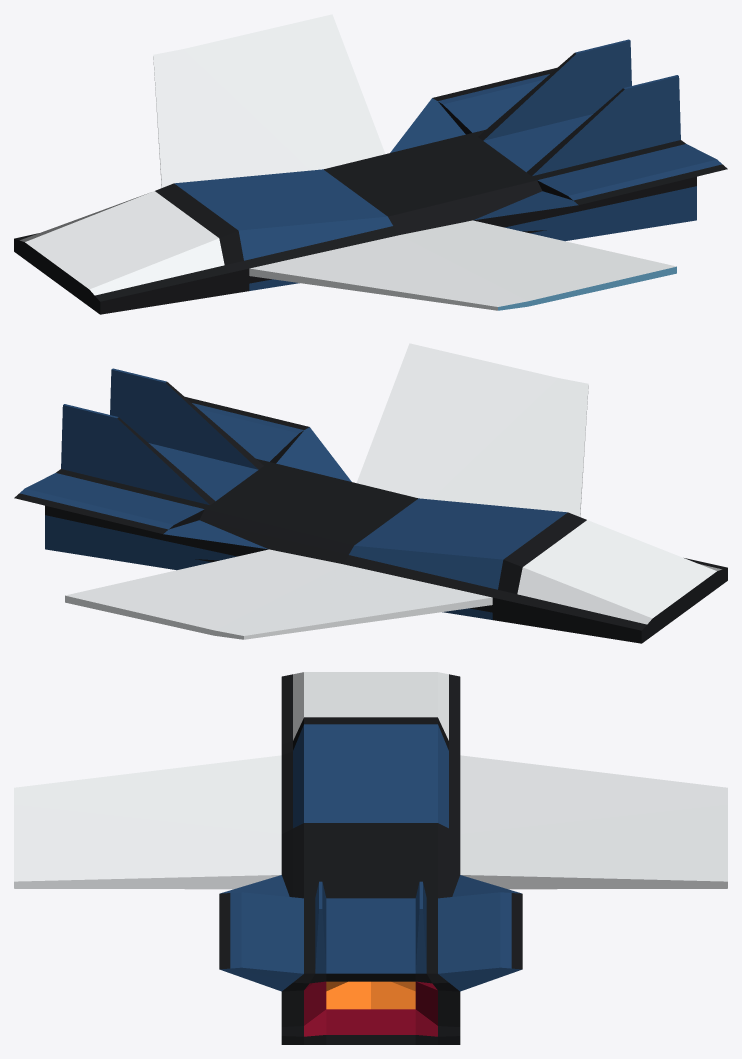
The model's file is player_spaceship.gltf.
3 renders of one model, top to bottom at view 1: azimuth 30°, elevation 25°; view 2: azimuth 150°, elevation 25°; view 3: azimuth 270°, elevation 25°, orthographic. The views are drawn at different scales.
Visible parts, largest first — view 1: player_spaceship; view 2: player_spaceship; view 3: player_spaceship.
Part boxes in pixels (x1,y1,x2,y2): player_spaceship: (14,14,727,314); player_spaceship: (14,343,727,643); player_spaceship: (14,672,727,1044).
Bounding box in the file's own units: 2 × 0.4198 × 2.
